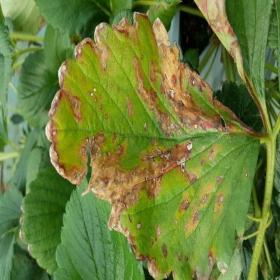Angular Leafspot: (45, 12, 263, 279), (194, 1, 274, 130)
